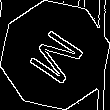M_SE: (21, 22, 89, 88)
